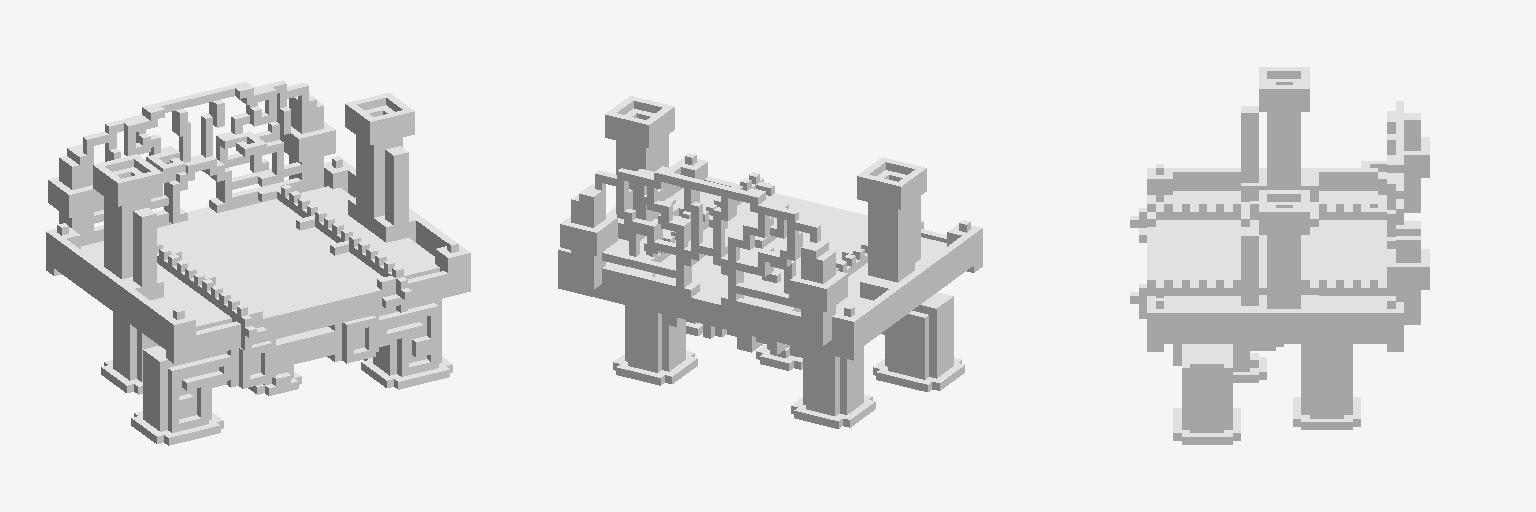
Rendered from Mesa_Entrega.obj.
The picture shows the model from 3 angles: view 1: azimuth 30°, elevation 25°; view 2: azimuth 150°, elevation 25°; view 3: azimuth 270°, elevation 25°; orthographic projection.
Parts seen in each view (by area): view 1: object 1; view 2: object 1; view 3: object 1.
Part boxes in pixels (x1,y1,x2,y2): object 1: (46, 80, 470, 445); object 1: (558, 96, 982, 428); object 1: (1130, 67, 1429, 444).
Bounding box in the file's own units: 4 × 3 × 3.5.